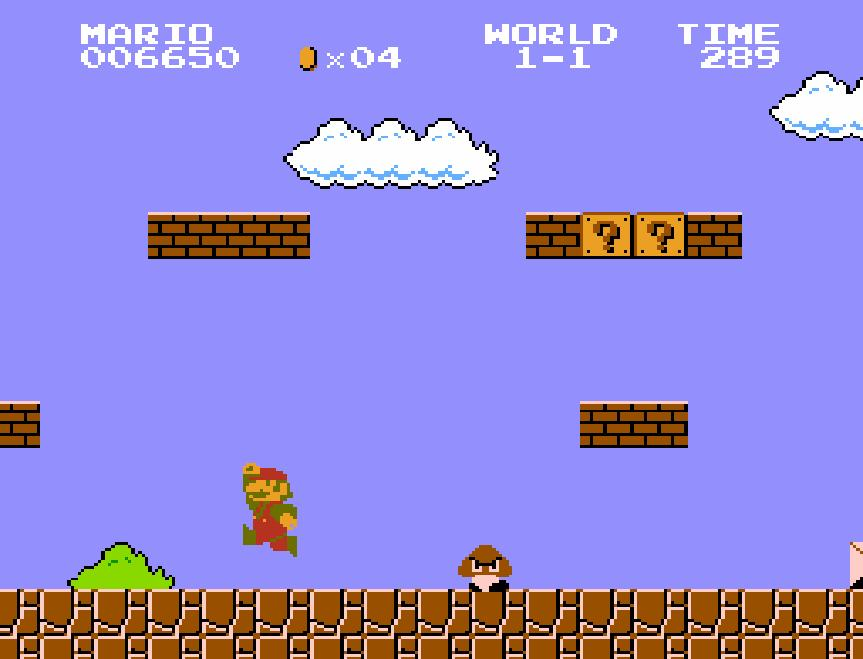big_mario: (240, 461, 298, 559)
